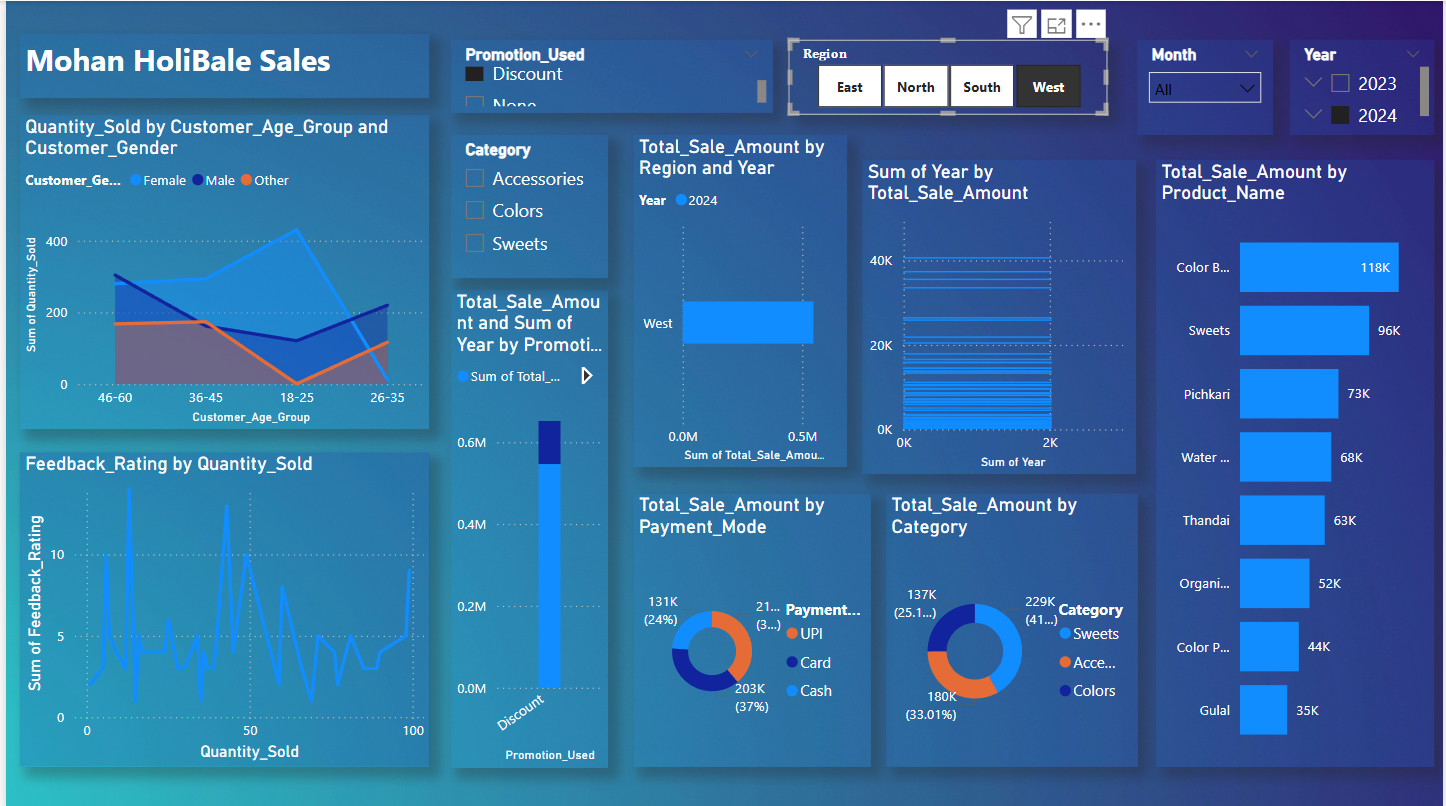

What the dashboard file says about the page in this screenshot:
{"tool":"powerbi","page":{"name":"Page 1","canvas":[1280,720],"ordinal":0},"visuals":[{"type":"donutChart","title":"Total_Sale_Amount by Category","fields":{"Y":["mohan_holibale_sales (1).Total_Sale_Amount"],"Category":["mohan_holibale_sales (1).Category"]},"box":[783.5,439.1,223.7,242.9],"z":0},{"type":"clusteredBarChart","title":"Total_Sale_Amount by Region and Year","fields":{"Category":["mohan_holibale_sales (1).Region"],"Y":["mohan_holibale_sales (1).Total_Sale_Amount"],"Series":["mohan_holibale_sales (1).Year"]},"box":[558.5,119.4,190.7,296.4],"z":1000},{"type":"areaChart","title":"Quantity_Sold by Customer_Age_Group and Customer_Gender","fields":{"Category":["mohan_holibale_sales (1).Customer_Age_Group"],"Y":["mohan_holibale_sales (1).Quantity_Sold"],"Series":["mohan_holibale_sales (1).Customer_Gender"]},"box":[12.3,101.5,365,279.9],"z":2000},{"type":"columnChart","title":"Total_Sale_Amount and Sum of Year by Promotion_Used","fields":{"Category":["mohan_holibale_sales (1).Promotion_Used"],"Y":["mohan_holibale_sales (1).Total_Sale_Amount","mohan_holibale_sales (1).Year"]},"box":[396.6,256.6,140,425.4],"z":3000},{"type":"donutChart","title":"Total_Sale_Amount by Payment_Mode","fields":{"Y":["mohan_holibale_sales (1).Total_Sale_Amount"],"Category":["mohan_holibale_sales (1).Payment_Mode"]},"box":[558.5,439.1,211.3,242.9],"z":4000},{"type":"lineChart","title":"Feedback_Rating by Quantity_Sold","fields":{"Y":["mohan_holibale_sales (1).Feedback_Rating"],"Category":["mohan_holibale_sales (1).Quantity_Sold"]},"box":[12.3,402.1,365,279.9],"z":5000},{"type":"clusteredBarChart","title":"Total_Sale_Amount by Product_Name","fields":{"Y":["mohan_holibale_sales (1).Total_Sale_Amount"],"Category":["mohan_holibale_sales (1).Product_Name"]},"box":[1023.7,141.3,248.4,540.7],"z":6000},{"type":"clusteredBarChart","fields":{"Category":["mohan_holibale_sales (1).Total_Sale_Amount"],"Y":["mohan_holibale_sales (1).Year"]},"box":[763,141.3,244.3,279.9],"z":7000},{"type":"slicer","fields":{"Values":["mohan_holibale_sales (1).Year","mohan_holibale_sales (1).Promotion_Used"]},"box":[1143.1,34.3,129,85.1],"z":8000},{"type":"slicer","fields":{"Values":["mohan_holibale_sales (1).Category"]},"box":[396.6,119.4,140,127.6],"z":9000},{"type":"slicer","fields":{"Values":["mohan_holibale_sales (1).Month"]},"box":[1007.2,34.3,120.8,85.1],"z":10000},{"type":"slicer","fields":{"Values":["mohan_holibale_sales (1).Region"]},"box":[697.1,34.3,284,67.2],"z":11000},{"type":"slicer","fields":{"Values":["mohan_holibale_sales (1).Promotion_Used"]},"box":[396.3,34.5,286.1,64.6],"z":12000},{"type":"textbox","box":[12.3,28.8,365,57.6],"z":13000}]}

Visuals, with their boxes in screenshot pixels (x1, y1, x2, y2), scaled from the page's 1280x720 canvas onto the 1446x806 screenshot:
"Total_Sale_Amount by Category" donutChart: bbox=(885, 492, 1138, 763)
"Total_Sale_Amount by Region and Year" clusteredBarChart: bbox=(631, 134, 846, 465)
"Quantity_Sold by Customer_Age_Group and Customer_Gender" areaChart: bbox=(14, 114, 426, 427)
"Total_Sale_Amount and Sum of Year by Promotion_Used" columnChart: bbox=(448, 287, 606, 763)
"Total_Sale_Amount by Payment_Mode" donutChart: bbox=(631, 492, 870, 763)
"Feedback_Rating by Quantity_Sold" lineChart: bbox=(14, 450, 426, 763)
"Total_Sale_Amount by Product_Name" clusteredBarChart: bbox=(1156, 158, 1437, 763)
clusteredBarChart - mohan_holibale_sales (1).Total_Sale_Amount x mohan_holibale_sales (1).Year: bbox=(862, 158, 1138, 472)
slicer - mohan_holibale_sales (1).Year x mohan_holibale_sales (1).Promotion_Used: bbox=(1291, 38, 1437, 134)
slicer - mohan_holibale_sales (1).Category: bbox=(448, 134, 606, 277)
slicer - mohan_holibale_sales (1).Month: bbox=(1138, 38, 1274, 134)
slicer - mohan_holibale_sales (1).Region: bbox=(788, 38, 1108, 114)
slicer - mohan_holibale_sales (1).Promotion_Used: bbox=(448, 39, 771, 111)
textbox: bbox=(14, 32, 426, 97)
